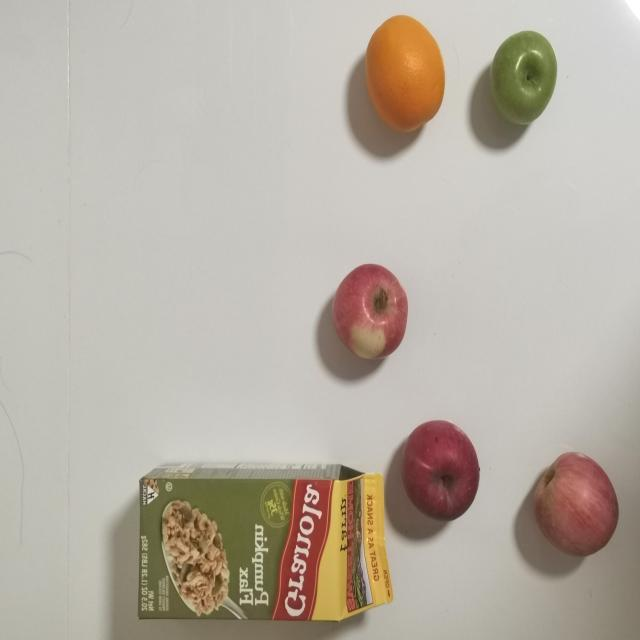apple: (535, 452, 620, 562), (484, 24, 564, 127), (401, 419, 481, 522), (330, 258, 410, 360)
orange: (358, 10, 460, 142)
